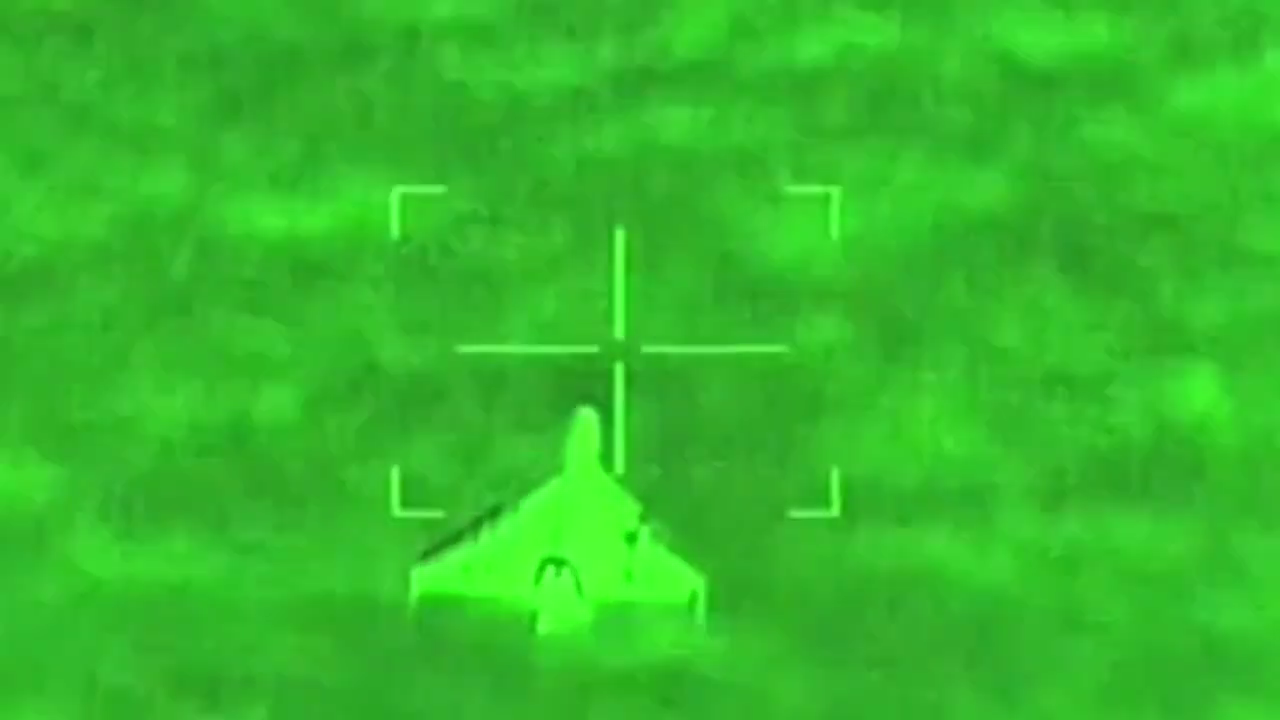shahed: (400, 400, 712, 648)
